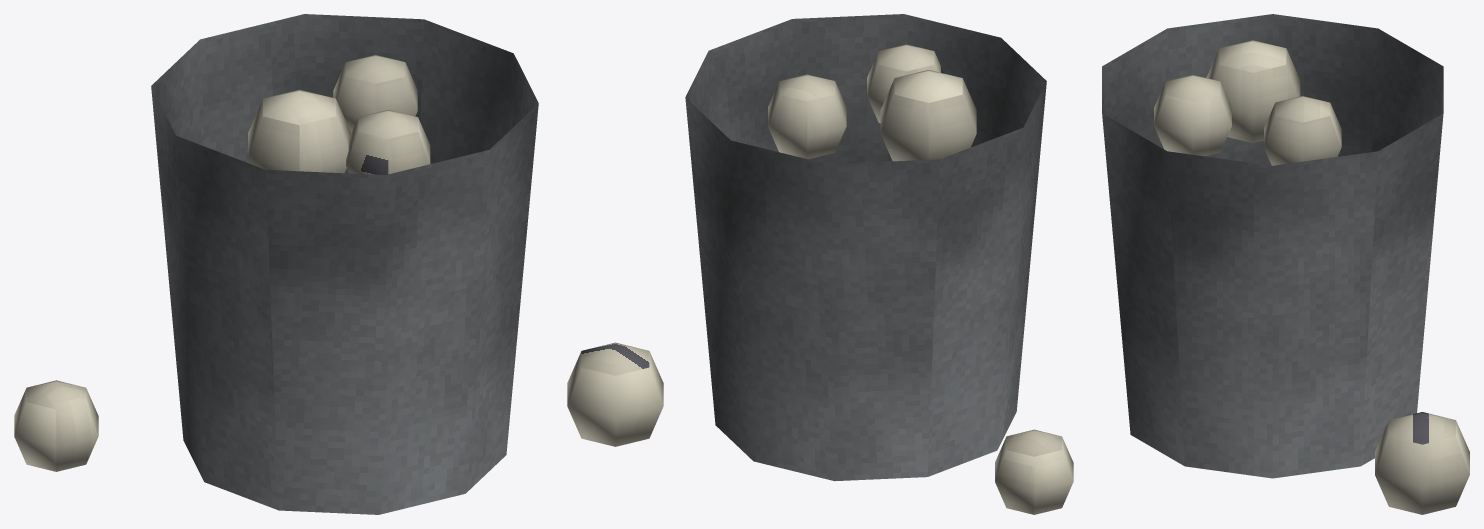
Rendered from Lab_Trash.fbx.
The picture shows the model from 3 angles, left to right: view 1: azimuth 30°, elevation 25°; view 2: azimuth 150°, elevation 25°; view 3: azimuth 270°, elevation 25°; orthographic projection. The views are drawn at different scales.
Visible parts, largest first — view 1: Lab_Trash; view 2: Lab_Trash; view 3: Lab_Trash.
Boxes of the visible parts, x1,y1,x2,y2 form: Lab_Trash: [14, 14, 538, 514]; Lab_Trash: [567, 14, 1073, 514]; Lab_Trash: [1102, 14, 1469, 514].
Bounding box in the file's own units: 0.55 × 0.4 × 0.3688.
